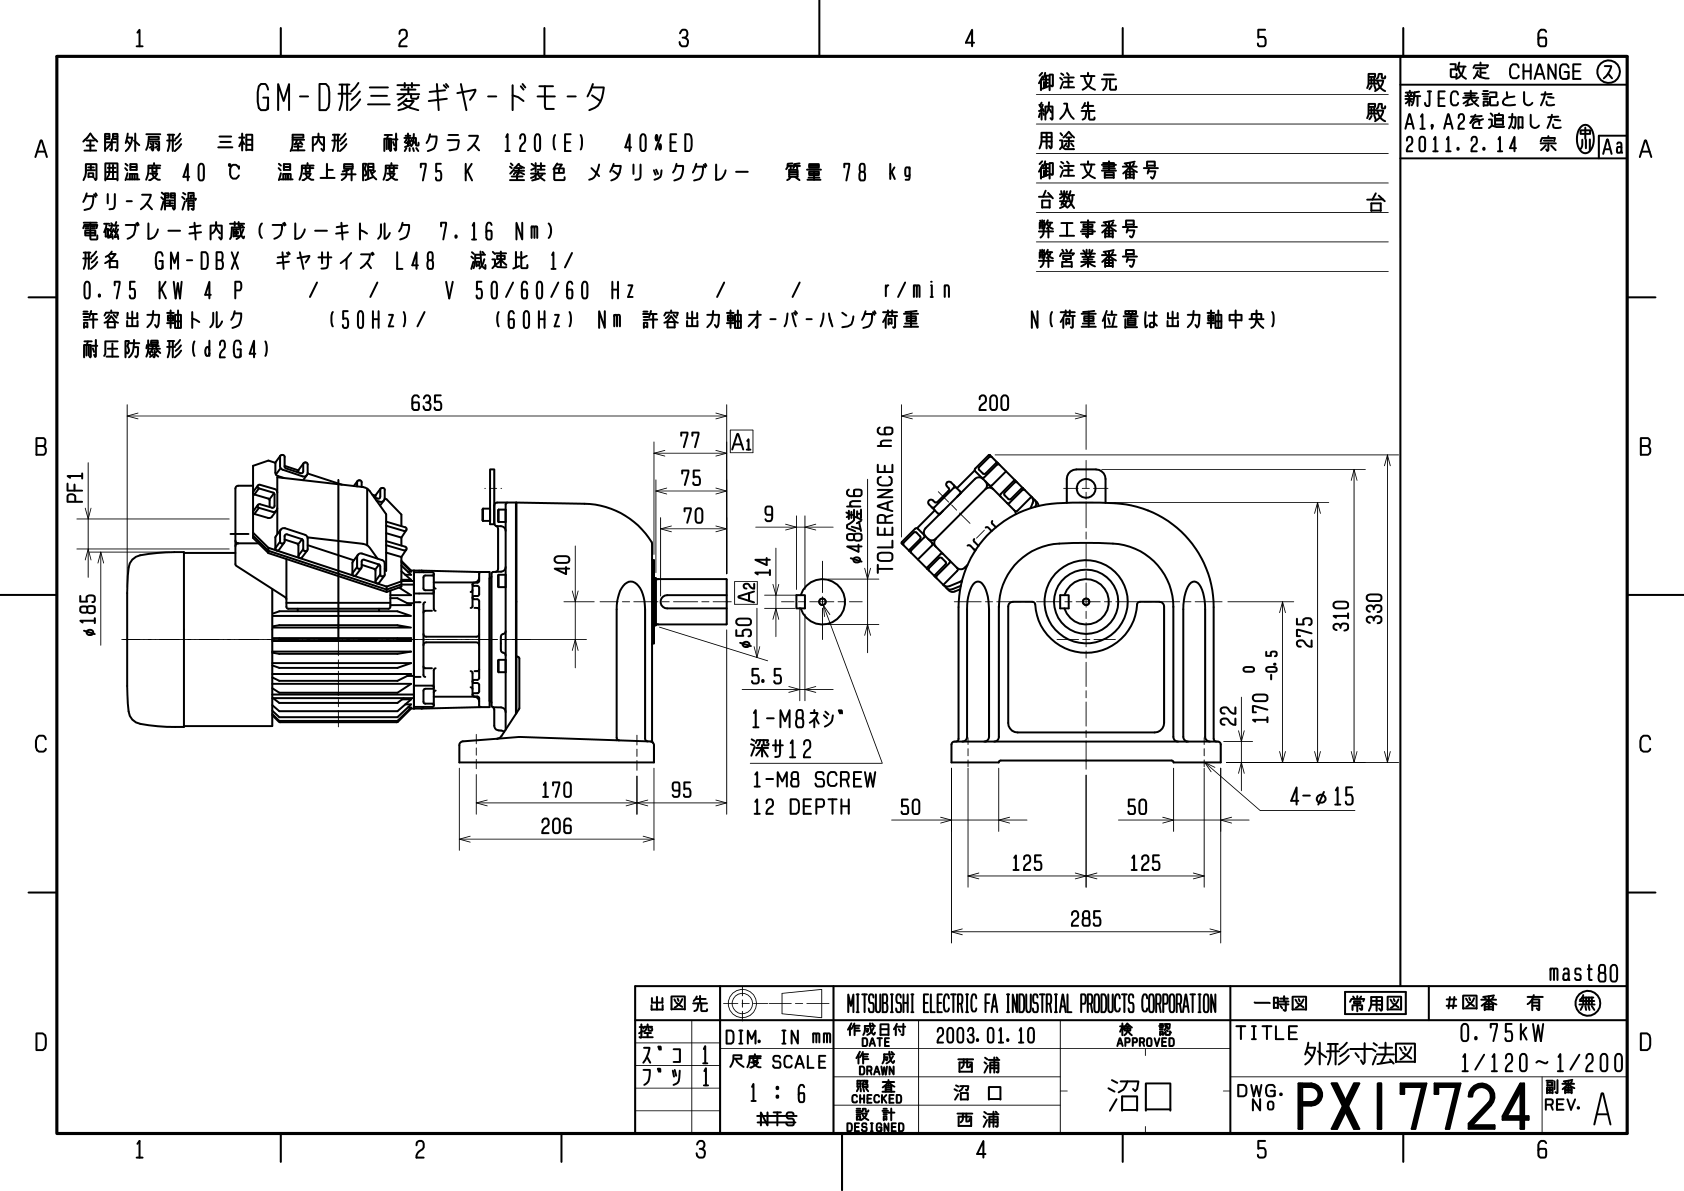GM_D_耐圧屋内_三相_脚: (1, 1, 1671, 1176)
